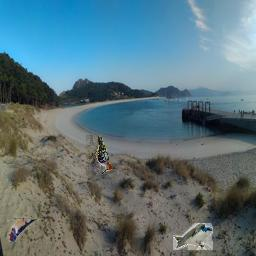Swallow: (173, 223, 213, 250), (7, 214, 42, 242)
Woodpecker: (86, 135, 114, 175)
